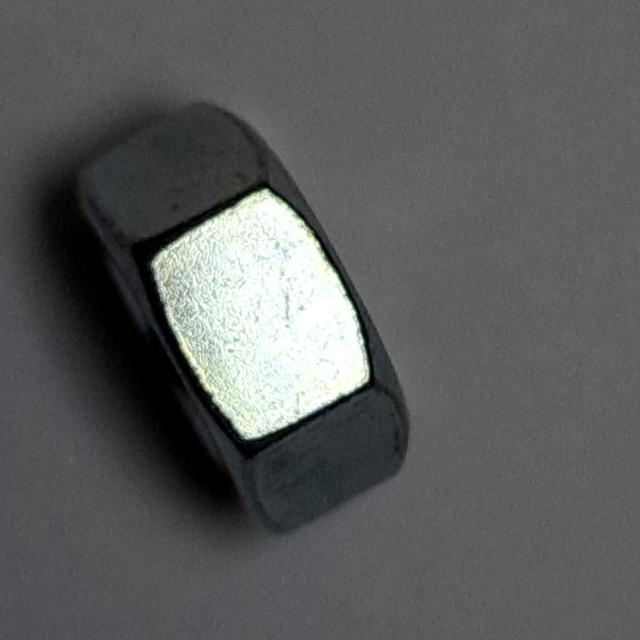Side_Excellent: (68, 94, 438, 545)
